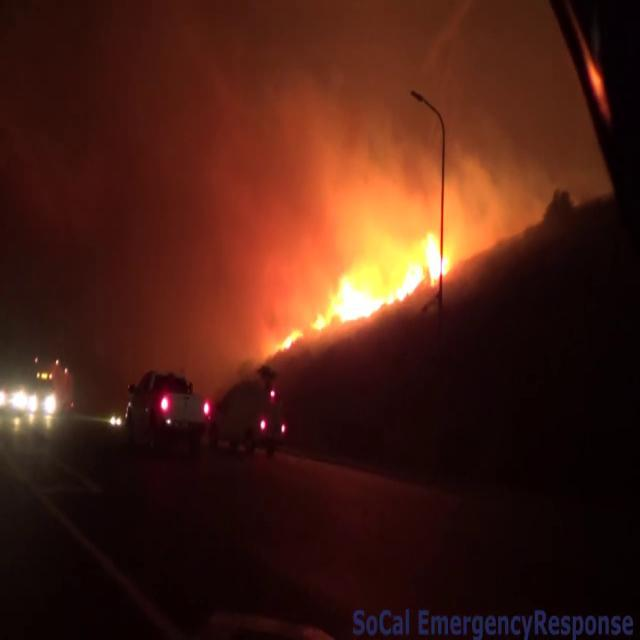Fire: (279, 199, 467, 339)
Smoke: (8, 6, 566, 350)
